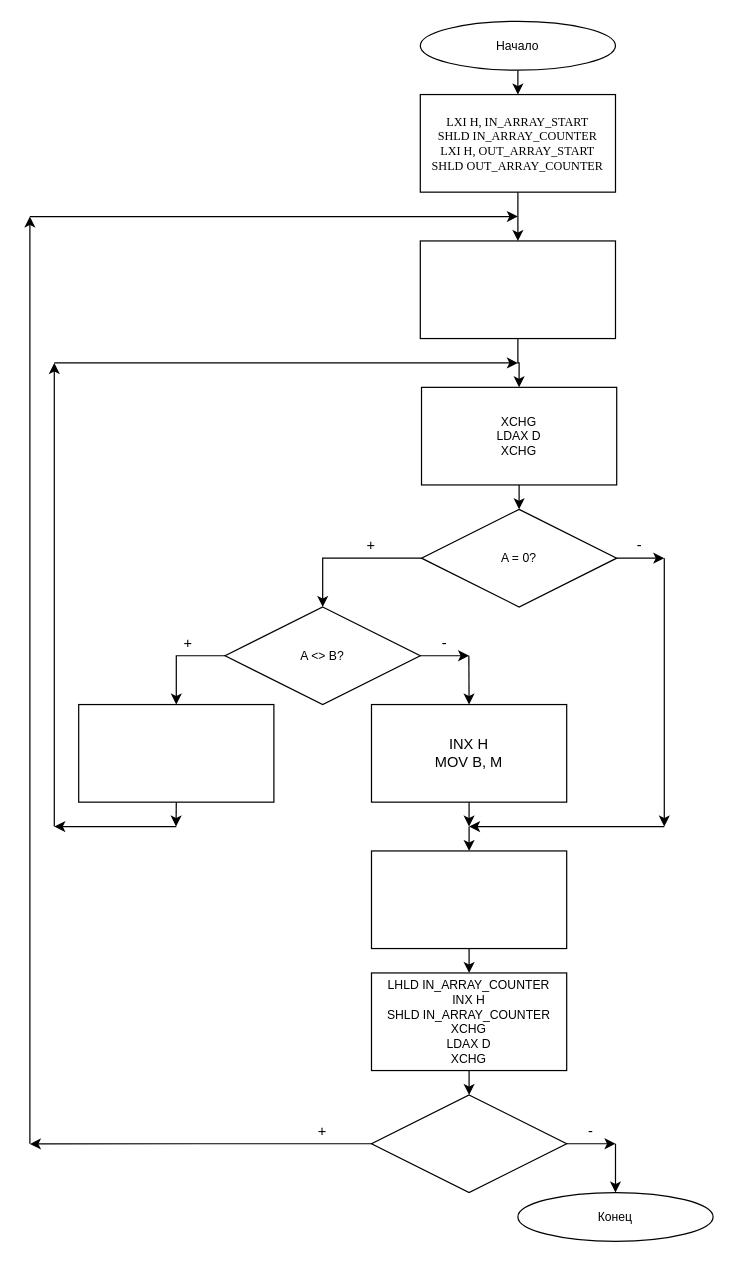
Some shapes in this 734 by 1263 pixel diagram are drawn without their labels. Each missing label, with the centre of its shape:
"A <> 0?" belongs at point (468, 1143).
"INX H INX H" belongs at point (175, 752).
"LHLD IN_ARRAY_COUNTER MOV B, M LXI H, HASH_TABLE_START" belongs at point (517, 289).
"LHLD OUT_ARRAY_COUNTER MOV M, B INX H SHLD OUT_ARRAY_COUNTER" belongs at point (468, 899).
